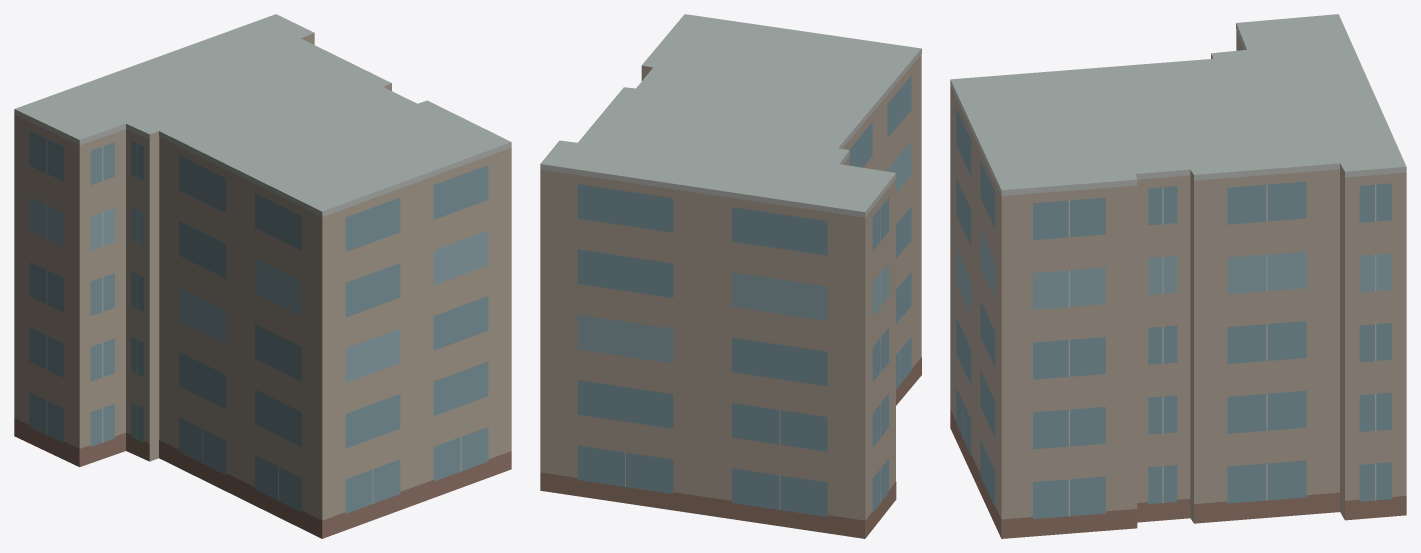
File: survey-upis-32704853.glb
3 views of the same model, side by side, from view 1: azimuth 30°, elevation 25°; view 2: azimuth 150°, elevation 25°; view 3: azimuth 270°, elevation 25° (orthographic). The views are drawn at different scales.
Visible parts, largest first — view 1: survey-upis-32704853.tmp; view 2: survey-upis-32704853.tmp; view 3: survey-upis-32704853.tmp.
Part boxes in pixels (x1,y1,x2,y2): survey-upis-32704853.tmp: (14,14,511,538); survey-upis-32704853.tmp: (540,14,921,538); survey-upis-32704853.tmp: (950,14,1406,538).
Size of the model in its own units: 15.9 by 14.65 by 17.39.
